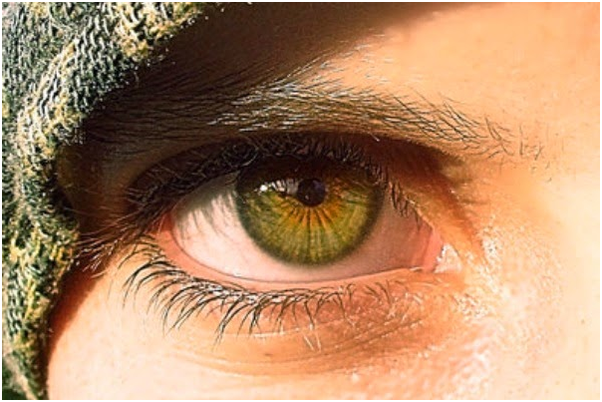iris: (232, 144, 385, 266)
pupil: (292, 174, 328, 207)
